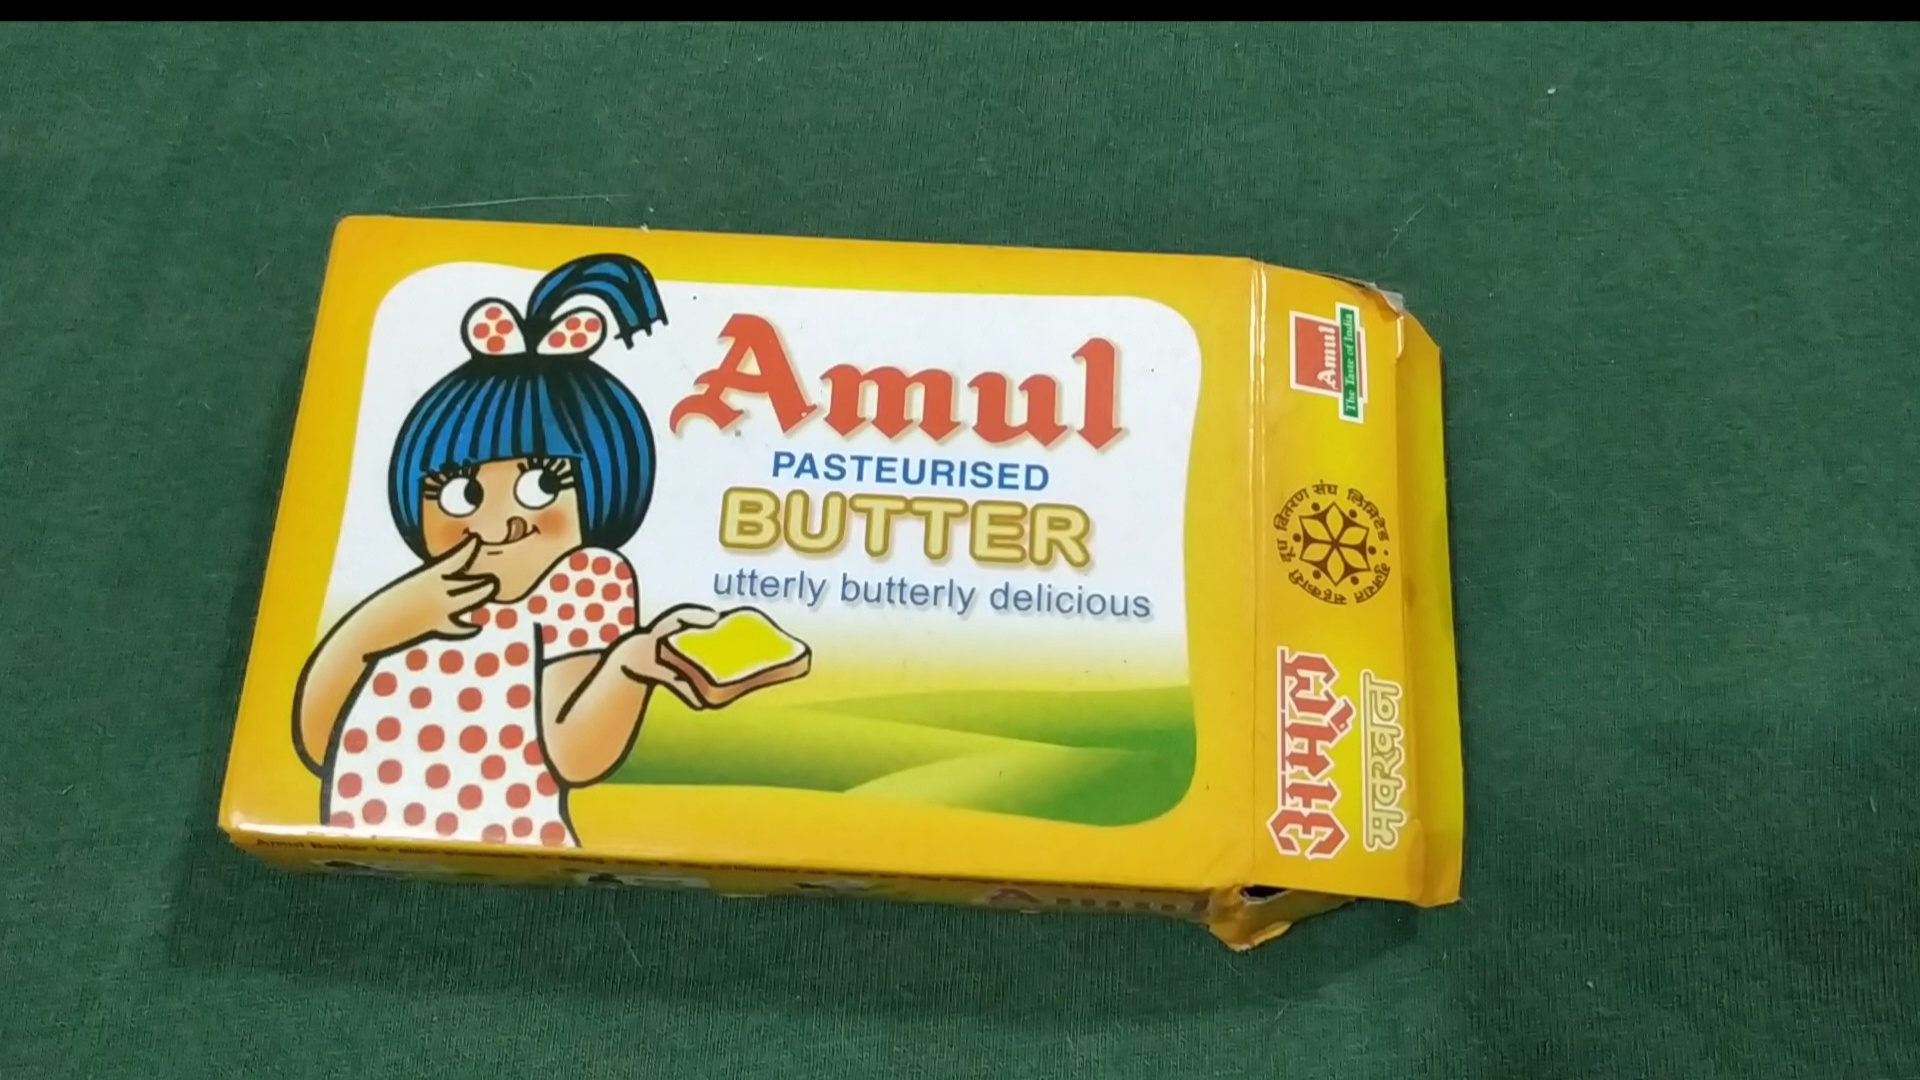amul_butter: (210, 215, 1457, 939)
